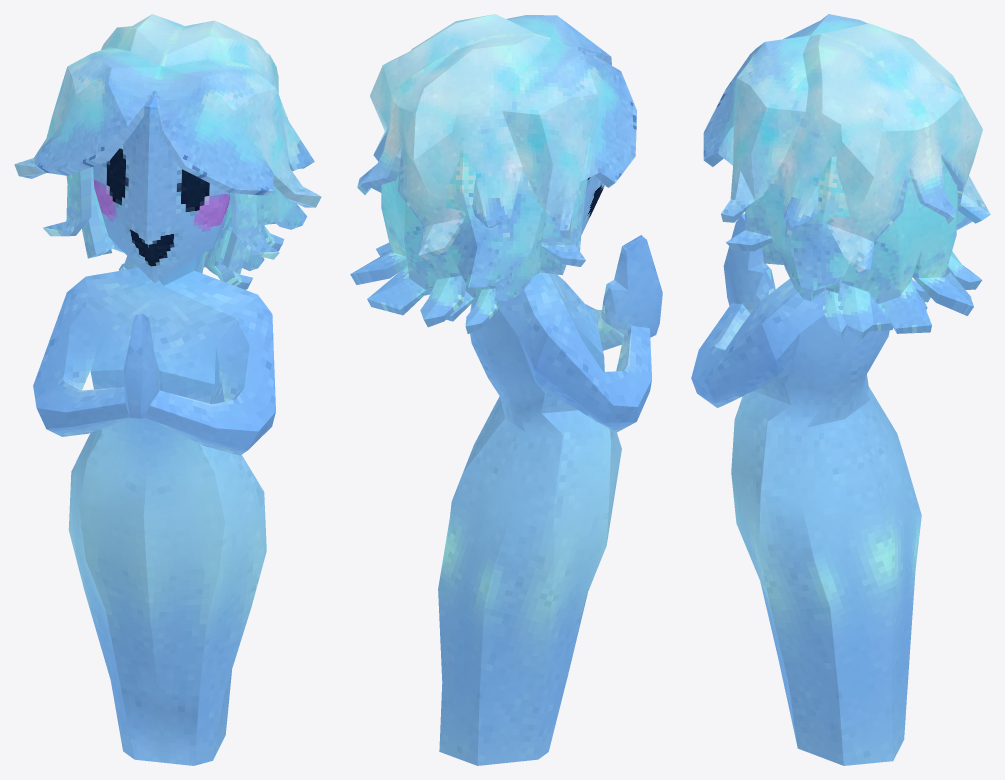
The model's file is dancingGhostStatue.glb.
The picture shows the model from 3 angles, left to right: view 1: azimuth 30°, elevation 25°; view 2: azimuth 150°, elevation 25°; view 3: azimuth 270°, elevation 25°; orthographic projection.
Visible parts, largest first — view 1: dANCING STATUE; view 2: dANCING STATUE; view 3: dANCING STATUE.
Part boxes in pixels (x1,y1,x2,y2): dANCING STATUE: (14,14,321,765); dANCING STATUE: (350,14,662,765); dANCING STATUE: (691,14,990,765).
Size of the model in its own units: 2.16 by 5.62 by 2.16.
1 material, 1 textured.
